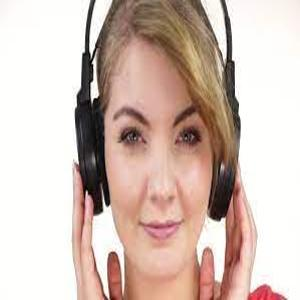Headphones: (71, 1, 242, 220)
